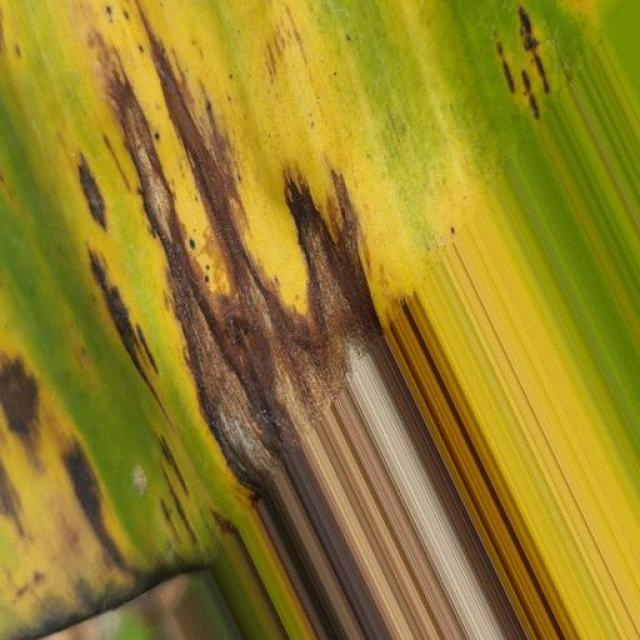Early_rust: (0, 0, 432, 640), (459, 0, 615, 120)
